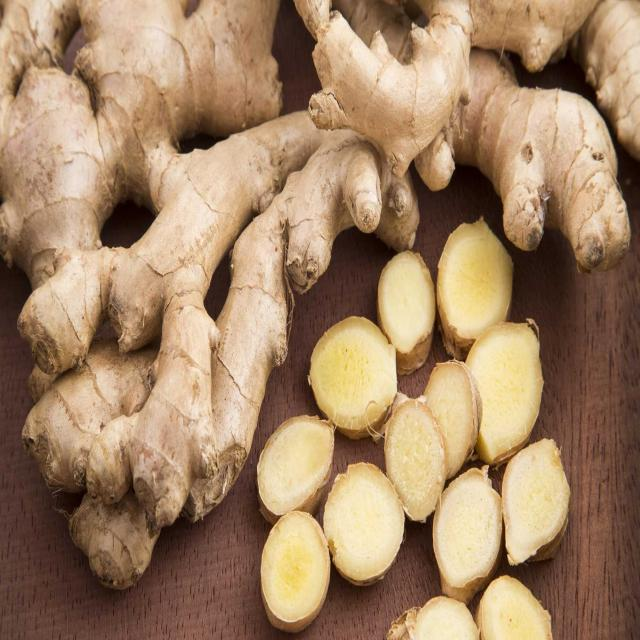ginger: (0, 83, 364, 594)
